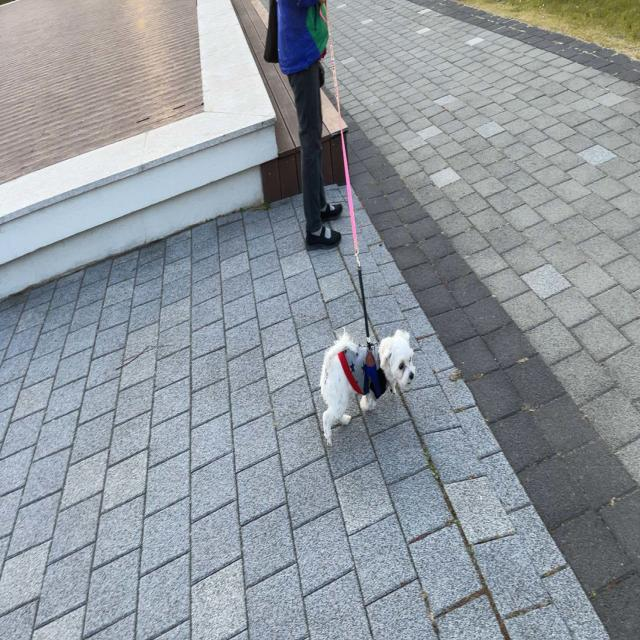Leashed_Dog: (304, 0, 416, 446)
